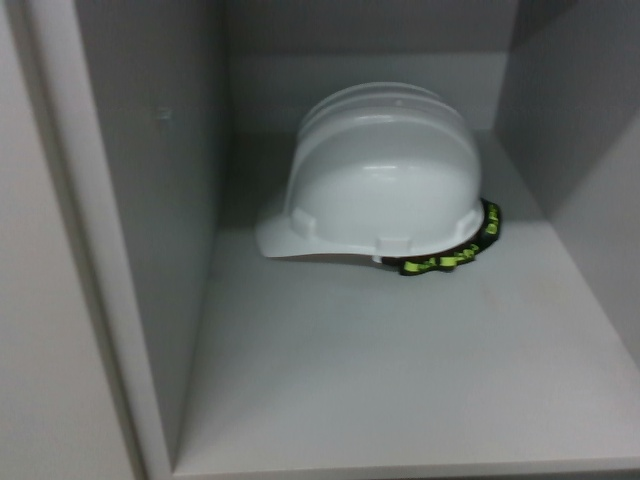helmet: (252, 80, 502, 272)
